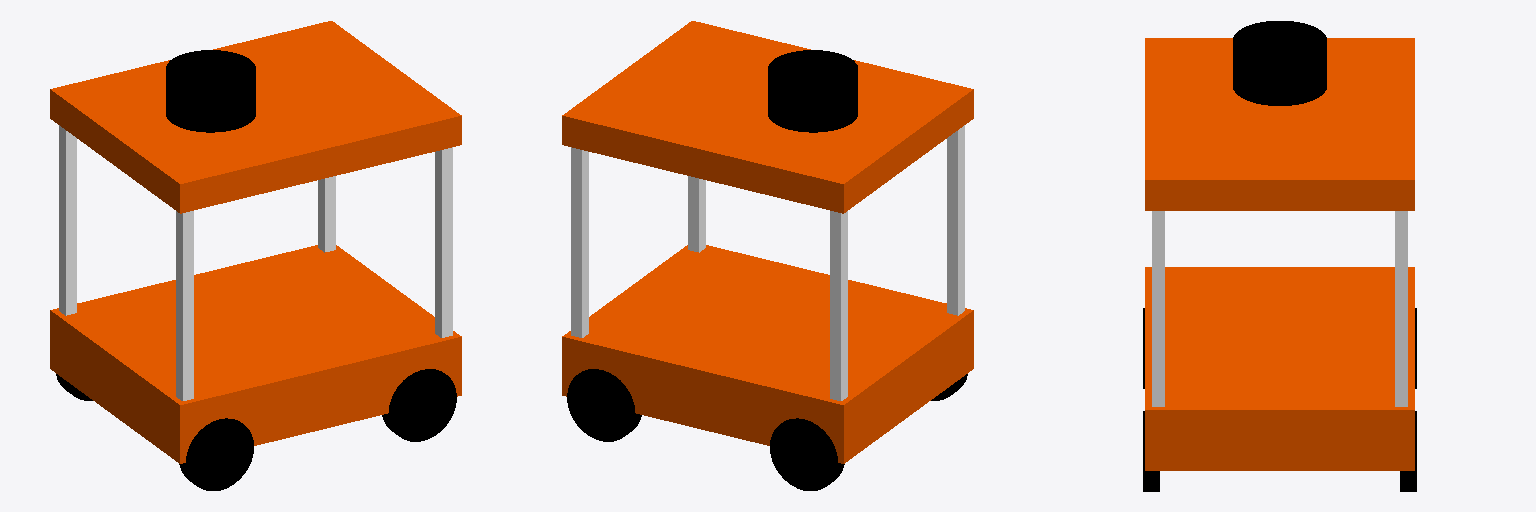
robot.urdf — wyf:
<?xml version="1.0" ?>
<robot name="wyf">

<!-- /////////////////////////////////////    COLOR    ///////////////////////////////////////////// -->
	<material name="Black">
		<color rgba="0 0 0 1"/>
	</material>
	<material name="White">
		<color rgba="1 1 1 1"/>
	</material>
	<material name="Blue">
		<color rgba="0 0 1 1"/>
	</material>
	<material name="Red">
		<color rgba="1 0 0 1"/>
	</material>
	 <material name="Yellow">
        <color rgba="1 0.4 0 1"/>
    </material>


<!-- /////////////////////////////////////    BASE    ///////////////////////////////////////////// -->
    <link name="base_footprint">
                  <visual>
                        <geometry>
                                <box size="0.001 0.001 0.001" />
                        </geometry>
                </visual>
        </link>

<joint name="base_footprint_link" type="fixed">
                <parent link="base_footprint" />
                <child link="base_link" />
                <origin xyz="0 0 0.05" rpy="0 0 0" />
        </joint>


    <link name="base_link">
        <visual>
            <origin xyz=" 0 0 0" rpy="0 0 0" />
            <geometry>
                <box size="0.5 0.4 0.1" />
            </geometry>
            <material name="Yellow"/>
        </visual>
    </link>


<!-- /////////////////////////////////////    WHEEL    ///////////////////////////////////////////// -->

    <link name="left_wheel1_link">
        <visual>
            <origin xyz="0 0 0" rpy="1.5707 0 0" />
            <geometry>
                <cylinder radius="0.06" length = "0.025"/>
            </geometry>
            <material name="Black"/>
        </visual>
    </link>

    <joint name="left_wheel1_joint" type="continuous">
    <!-- /////相对于底盘的位置，左0.19，前0.18，下降0.05//// -->
        <origin xyz="0.18 0.19 -0.05" rpy="0 0 0"/>
        <parent link="base_link"/>
        <child link="left_wheel1_link"/>
        <axis xyz="0 1 0"/>
    </joint>


    <link name="left_wheel2_link">
        <visual>
            <origin xyz="0 0 0" rpy="1.5707 0 0" />
            <geometry>
                <cylinder radius="0.06" length = "0.025"/>
            </geometry>
            <material name="Black"/>
        </visual>
    </link>

    <joint name="left_wheel2_joint" type="continuous">
        <origin xyz="-0.18 0.19 -0.05" rpy="0 0 0"/>
        <parent link="base_link"/>
        <child link="left_wheel2_link"/>
        <axis xyz="0 1 0"/>
    </joint>

 <link name="right_wheel1_link">
        <visual>
          <origin xyz="0 0 0" rpy="1.5707 0 0" />  
            <geometry>
                <cylinder radius="0.06" length = "0.025"/>
            </geometry>
            <material name="Black"/>
        </visual>
    </link>

    <joint name="right_wheel1_joint" type="continuous">
        <origin xyz="0.18 -0.19 -0.05" rpy="0 0 0"/>
        <parent link="base_link"/>
        <child link="right_wheel1_link"/>
        <axis xyz="0 0 1"/>
    </joint>

 <link name="right_wheel2_link">
        <visual>
            <origin xyz="0 0 0" rpy="1.5707 0 0" />
            <geometry>
                <cylinder radius="0.06" length = "0.025"/>
            </geometry>
            <material name="Black"/>
        </visual>
    </link>

    <joint name="right_wheel2_joint" type="continuous">
        <origin xyz="-0.18 -0.19 -0.05" rpy="0 0 0"/>
        <parent link="base_link"/>
        <child link="right_wheel2_link"/>
        <axis xyz="0 1 0"/>
    </joint>

<!-- //////////////////////////////////////////
    pole 支柱  ////////////////////////////////////////// -->

    <link name="left_pole1_link">
        <visual>
            <origin xyz="0 0 0" rpy="0 0 0" />
            <geometry>
                <box size="0.02 0.02 0.4" />
            </geometry>
            <material name="White"/>
        </visual>
    </link>

    <joint name="left_pole1_joint" type="fixed">
        <origin xyz=" 0.23 0.18 0.2" rpy="0 0 0"/>
        <parent link="base_link"/>
        <child link="left_pole1_link"/>
        <axis xyz="0 1 0"/>
    </joint>

    <link name="left_pole2_link">
        <visual>
            <origin xyz="0 0 0" rpy="0 0 0" />
            <geometry>
                <box size="0.02 0.02 0.4" />
            </geometry>
            <material name="White"/>
        </visual>
    </link>

    <joint name="left_pole2_joint" type="fixed">
        <origin xyz=" -0.23 0.18 0.2" rpy="0 0 0"/>
        <parent link="base_link"/>
        <child link="left_pole2_link"/>
        <axis xyz="0 1 0"/>
    </joint>

    <link name="right_pole1_link">
        <visual>
            <origin xyz="0 0 0" rpy="0 0 0" />
            <geometry>
                <box size="0.02 0.02 0.4" />
            </geometry>
            <material name="White"/>
        </visual>
    </link>

    <joint name="right_pole1_joint" type="fixed">
        <origin xyz=" 0.23 -0.18 0.2" rpy="0 0 0"/>
        <parent link="base_link"/>
        <child link="right_pole1_link"/>
        <axis xyz="0 1 0"/>
    </joint>
    
     <link name="right_pole2_link">
        <visual>
            <origin xyz="0 0 0" rpy="0 0 0" />
            <geometry>
                <box size="0.02 0.02 0.4" />
            </geometry>
            <material name="White"/>
        </visual>
    </link>

    <joint name="right_pole2_joint" type="fixed">
        <origin xyz=" -0.23 -0.18 0.2" rpy="0 0 0"/>
        <parent link="base_link"/>
        <child link="right_pole2_link"/>
        <axis xyz="0 1 0"/>
    </joint>   
<!-- /////////////////////////////////////  
  UP 顶板   ///////////////////////////////////////////// -->
    <link name="up_link">
        <visual>
            <origin xyz=" 0 0 0" rpy="0 0 0" />
            <geometry>
                <box size="0.5 0.4 0.05" />
            </geometry>
            <material name="Yellow"/>
        </visual>
    </link>
  
     <joint name="up_pole_joint" type="fixed">
        <origin xyz="0 0 0.4" rpy="0 0 0"/>
        <parent link="base_link"/>
        <child link="up_link"/>
        <axis xyz="0 1 0"/>
    </joint>   
     
 <!-- /////////////////////////////////////    KINECT    ///////////////////////////////////////////// -->
    <link name="kinect_link">
        <visual>
            <origin xyz="0 0 0" rpy="0 0 1.5708"/>
            <geometry>
                <mesh filename="package://wyf_description/meshes/kinect.dae" />
            </geometry>
        </visual>
    </link>

    <joint name="kinect_joint" type="fixed">
   <!-- ////注意这里是kinect相对于顶板up 的高度位置/// -->  
        <origin xyz="0.15 0 0.05" rpy="0 0 0"/>
        <parent link="up_link"/>
        <child link="kinect_link"/>
    </joint>
   
<!-- /////////////////////////////////////    LASER    ///////////////////////////////////////////// -->
    <link name="laser_link">
		<visual>
			<origin xyz="0 0 0" rpy="0 0 0" />
			<geometry>
				<cylinder length="0.08" radius="0.07"/>
			</geometry>
			<material name="Black"/>
		</visual>
    </link>

    <joint name="laser_joint" type="fixed">
        <origin xyz="-0.08 0 0.06" rpy="0 0 0"/>
        <parent link="up_link"/>
        <child link="laser_link"/>
    </joint>
    
</robot>

--- Facts derived from the render (not from the file) ---
3 views of the same robot in one strip: view 1: azimuth 30°, elevation 25°; view 2: azimuth 150°, elevation 25°; view 3: azimuth 270°, elevation 25° (orthographic).
Model wyf with 13 links and 12 joints (4 continuous, 8 fixed), rooted at base_footprint, posed every joint at zero.
Visible links, largest first — view 1: base_link, up_link, laser_link, right_wheel1_link, right_wheel2_link, right_pole2_link, right_pole1_link, left_pole2_link, left_pole1_link; view 2: base_link, up_link, laser_link, left_wheel1_link, left_wheel2_link, left_pole2_link, left_pole1_link, right_pole2_link, right_pole1_link; view 3: base_link, up_link, laser_link, left_pole1_link, right_pole1_link.
Boxes of the visible links, <box> form: base_link: <box>50,245,461,463</box>; up_link: <box>50,21,461,213</box>; laser_link: <box>166,50,255,132</box>; right_wheel1_link: <box>382,369,456,441</box>; right_wheel2_link: <box>179,418,253,490</box>; right_pole2_link: <box>176,211,193,400</box>; right_pole1_link: <box>435,147,452,337</box>; left_pole2_link: <box>59,125,76,315</box>; left_pole1_link: <box>318,176,335,252</box>; base_link: <box>562,245,973,463</box>; up_link: <box>562,21,973,213</box>; laser_link: <box>768,50,857,132</box>; left_wheel1_link: <box>567,369,641,441</box>; left_wheel2_link: <box>770,418,844,490</box>; left_pole2_link: <box>830,211,847,400</box>; left_pole1_link: <box>571,147,588,337</box>; right_pole2_link: <box>947,125,964,315</box>; right_pole1_link: <box>688,176,705,252</box>; base_link: <box>1145,267,1414,470</box>; up_link: <box>1145,38,1414,210</box>; laser_link: <box>1233,21,1326,105</box>; left_pole1_link: <box>1395,211,1407,406</box>; right_pole1_link: <box>1152,211,1164,406</box>.
Size in the robot's own frame: 0.5 by 0.405 by 0.61 metres.
0 mesh visuals loaded from 1 distinct referenced files (none loaded); not drawn: 1 (reference not matched to a file when rendering).
